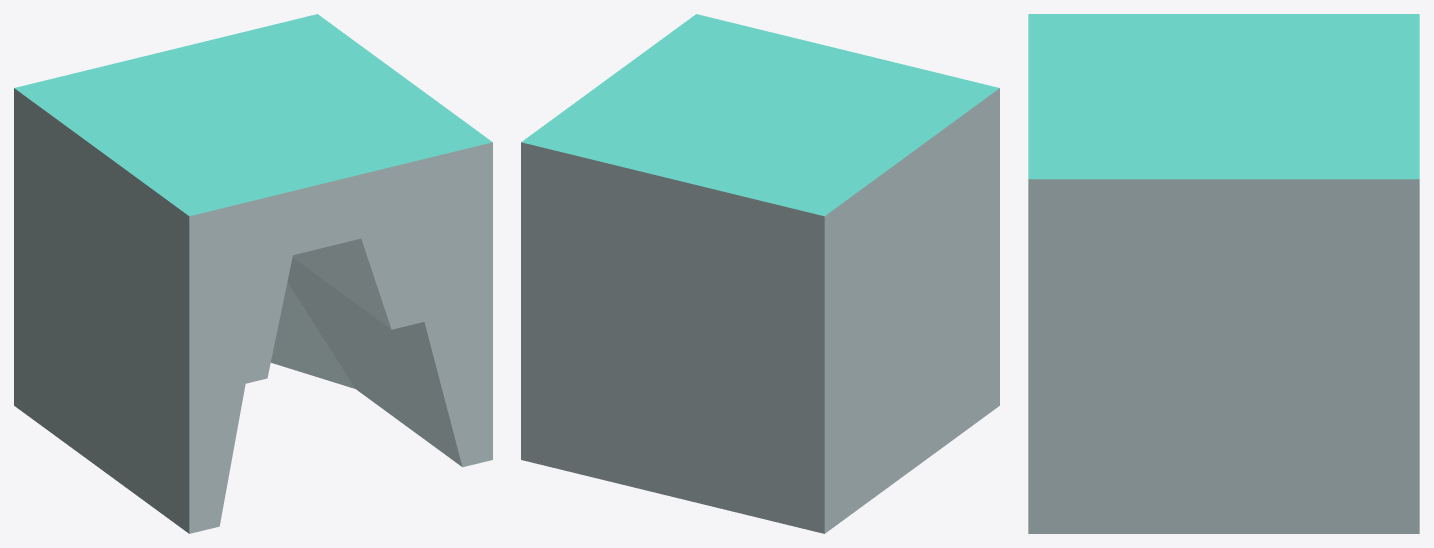
Rendered from cliff_blockCave_stone.gltf.
The picture shows the model from 3 angles, left to right: view 1: azimuth 30°, elevation 25°; view 2: azimuth 150°, elevation 25°; view 3: azimuth 270°, elevation 25°; orthographic projection. The views are drawn at different scales.
Visible parts, largest first — view 1: cliff_blockCave_stone; view 2: cliff_blockCave_stone; view 3: cliff_blockCave_stone.
Boxes of the visible parts, box(x1,y1,x2,y2) form: cliff_blockCave_stone: box(14, 14, 492, 533); cliff_blockCave_stone: box(521, 14, 999, 533); cliff_blockCave_stone: box(1028, 14, 1419, 533).
Size of the model in its own units: 1 by 1 by 1.
